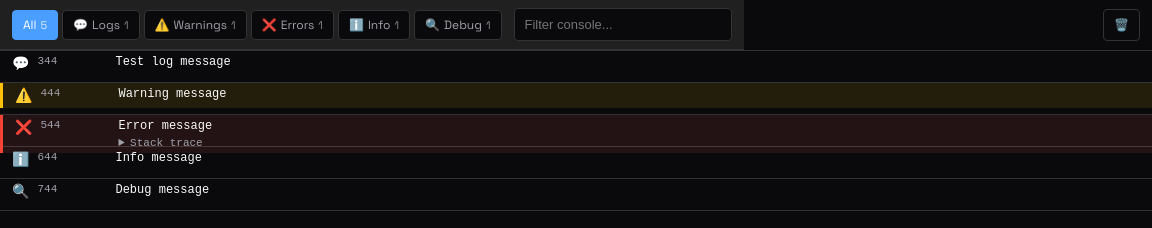
Test case: ConsoleTab › should show error stack trace
Step 1. Click the heading "Stack trace" → (166, 143), box [130, 137, 203, 149]
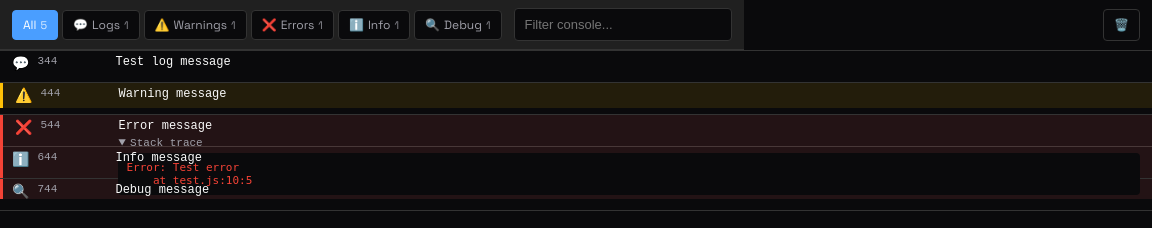
Check: the text "Error: Test error at test.js:10:5" is shown, box [118, 153, 1140, 195]
